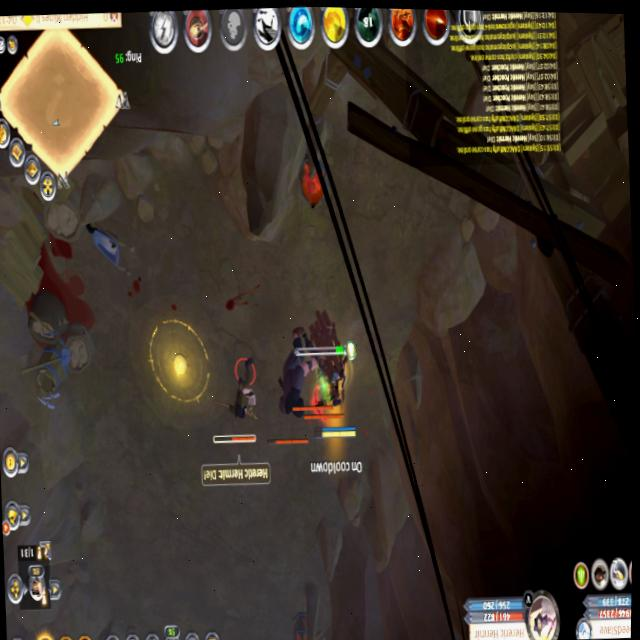ore: (287, 305, 349, 433), (265, 313, 318, 459), (204, 349, 269, 459), (259, 637, 285, 640)
red: (314, 360, 361, 448)
